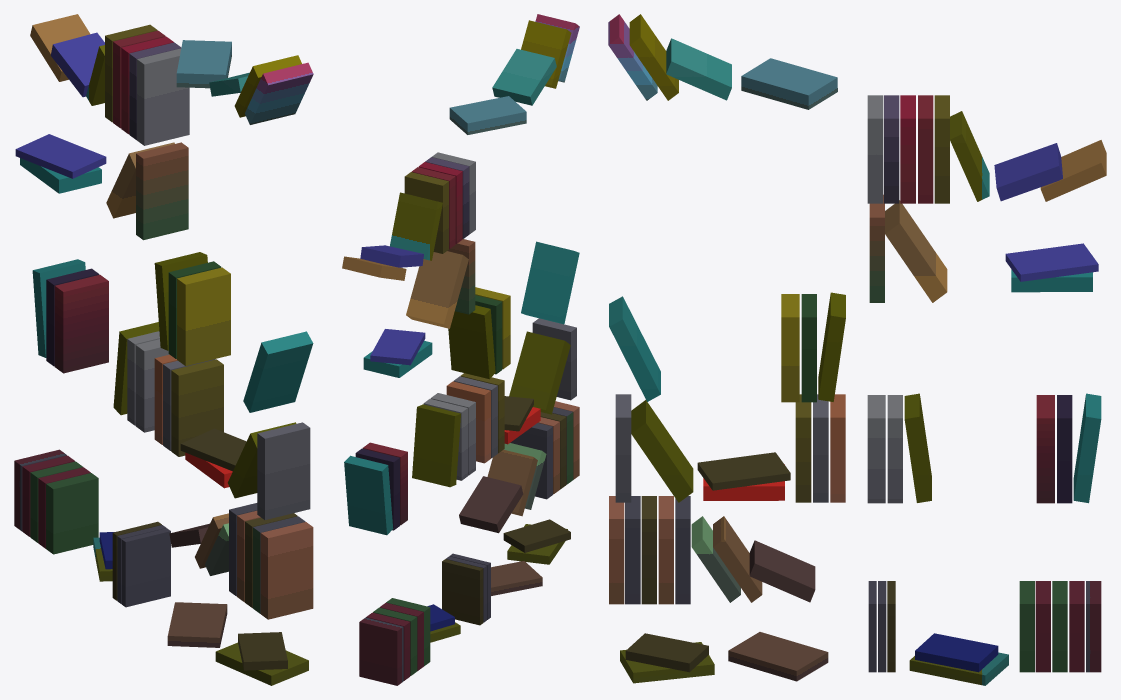
The model's file is books.fbx.
The picture shows the model from 3 angles, left to right: view 1: azimuth 30°, elevation 25°; view 2: azimuth 150°, elevation 25°; view 3: azimuth 270°, elevation 25°; orthographic projection. The views are drawn at different scales.
Parts seen in each view (by area): view 1: books1; view 2: books1; view 3: books1.
Part boxes in pixels (left/top/right/bottom): books1: left=14, top=14, right=313, bottom=685; books1: left=342, top=14, right=579, bottom=685; books1: left=608, top=14, right=1106, bottom=685.
Bounding box in the file's own units: 43.84 × 295 × 207.
